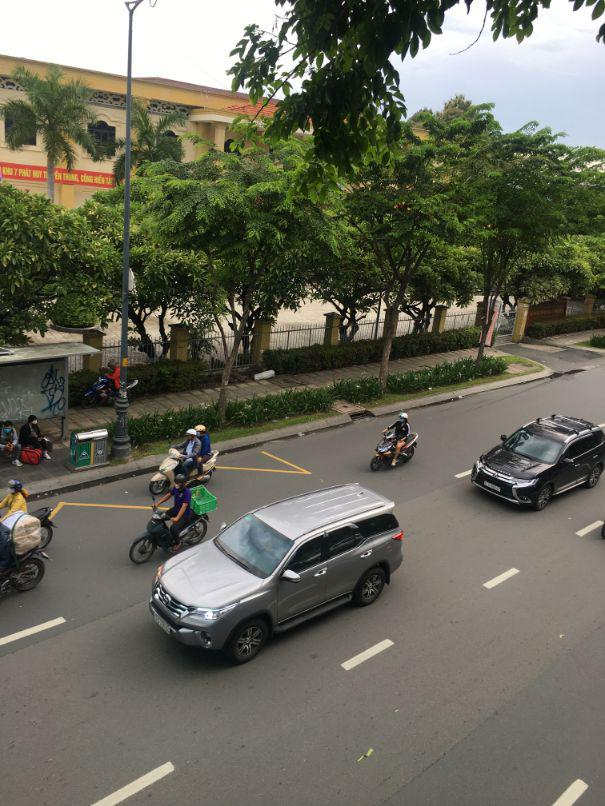car: (146, 482, 408, 666), (470, 413, 604, 513)
motorbike: (0, 508, 56, 614), (130, 498, 212, 566), (370, 418, 420, 472)
